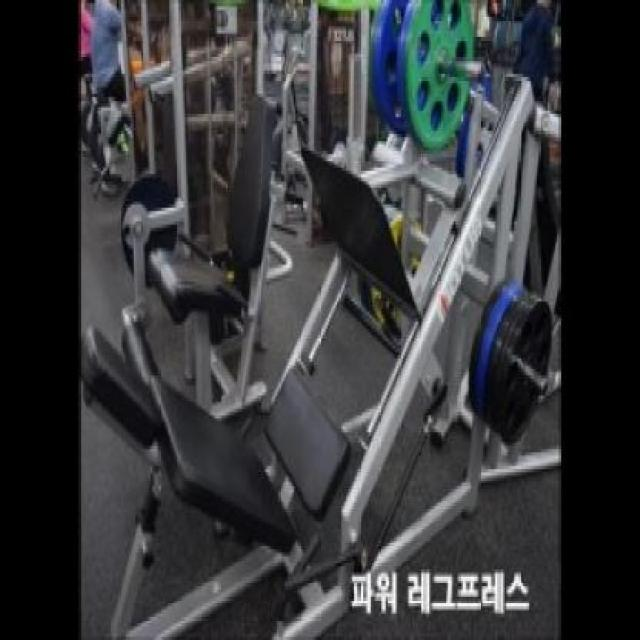leg press: (103, 12, 562, 640)
